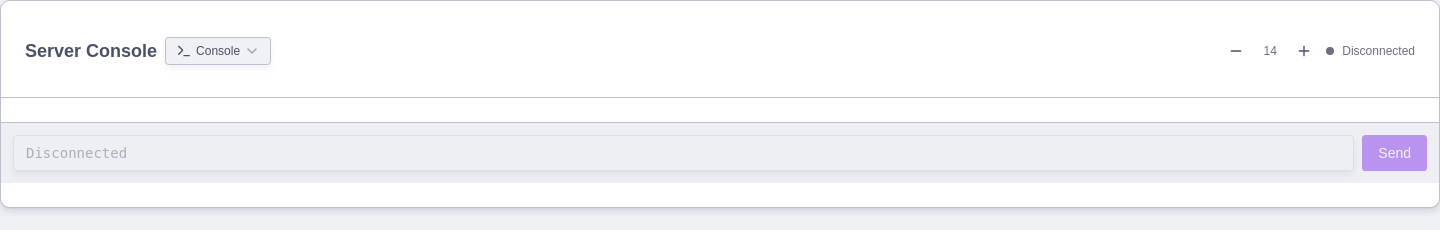
Test: ConsolePanel › font size controls › decreases font size when clicking decrease button
// Click decrease button
Click the button named "Decrease font size".
click(1236, 51)  # box [1222, 37, 1250, 65]
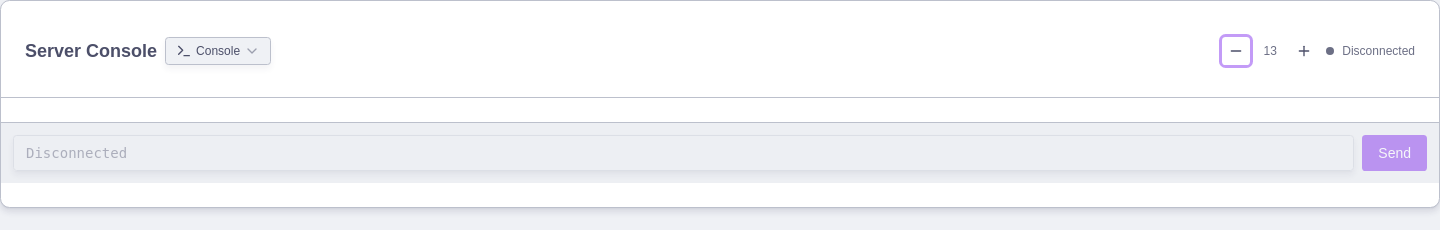
Expected: the text with test id "console-font-size" no longer shows "14"
